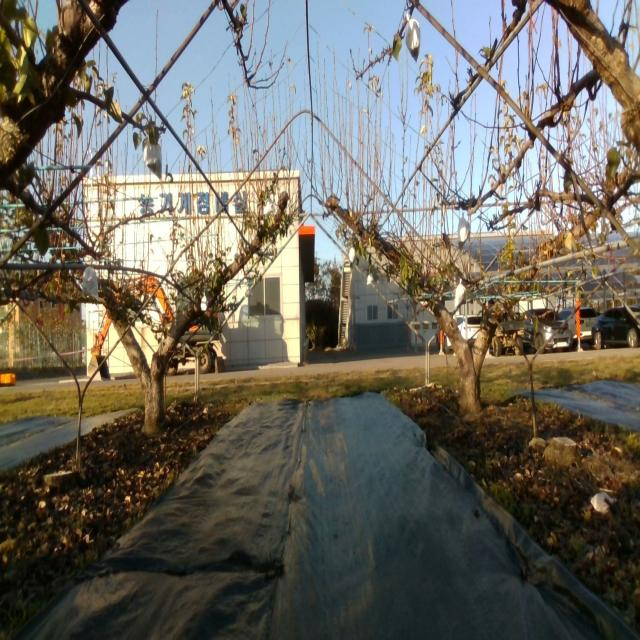pearbags: (144, 139, 162, 180), (80, 264, 101, 298), (406, 13, 420, 62), (458, 212, 470, 251), (455, 278, 466, 308)
